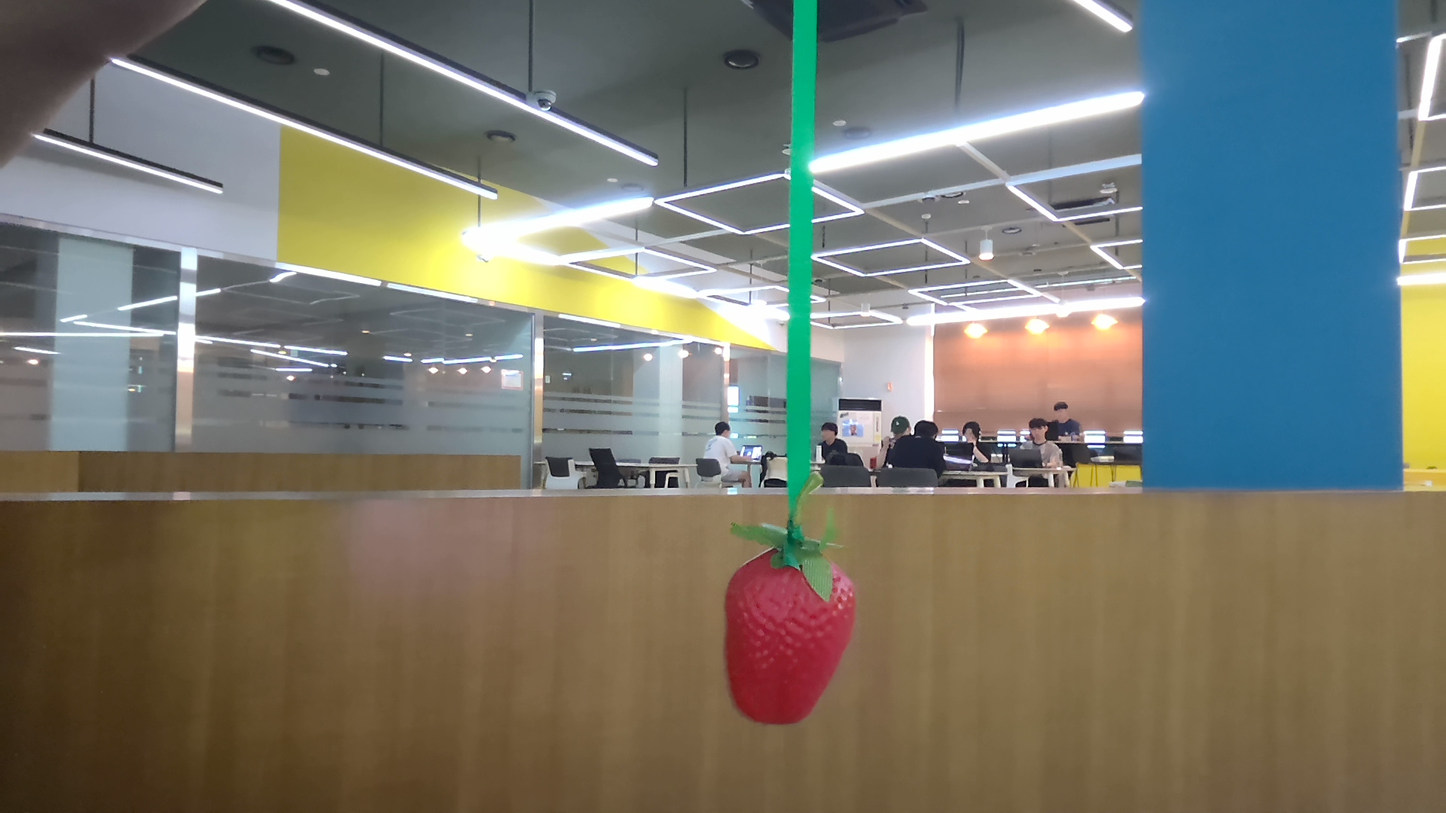strawberry: (712, 532, 859, 727)
